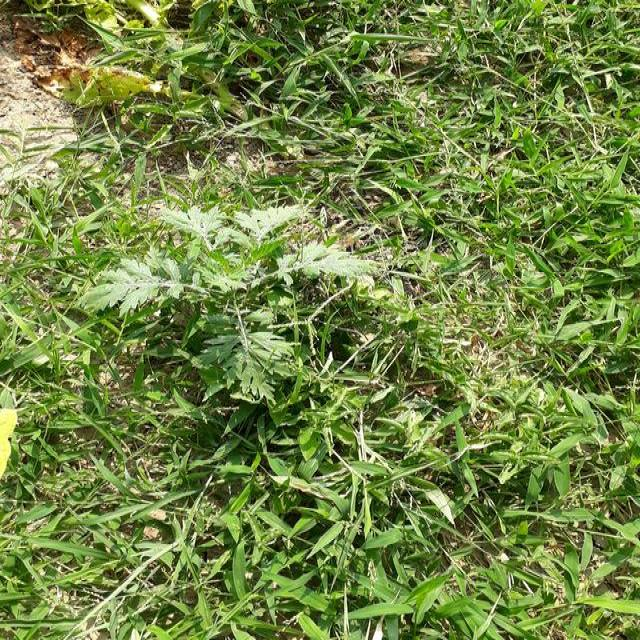weed: (17, 104, 640, 640)
